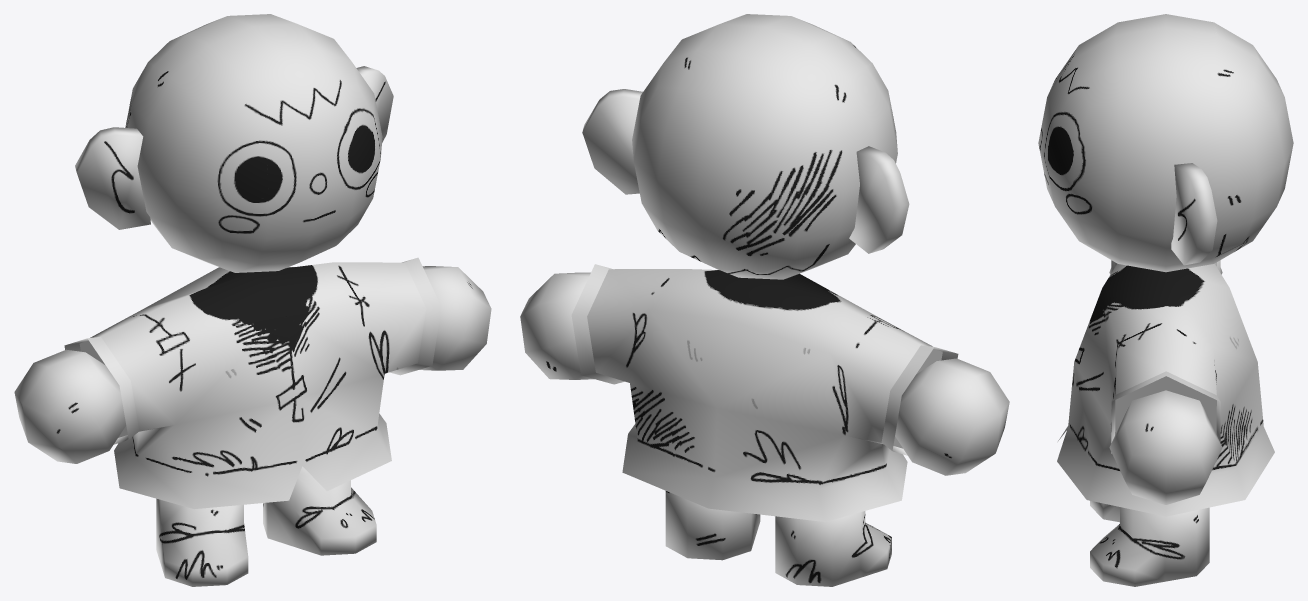
Rendered from Adam.obj.
3 views of the same model, side by side, from view 1: azimuth 30°, elevation 25°; view 2: azimuth 150°, elevation 25°; view 3: azimuth 270°, elevation 25° (orthographic). The views are drawn at different scales.
Visible parts, largest first — view 1: Cube.001, Cube.005, Cube.002, Cylinder, Cube.006; view 2: Cube.001, Cube.005, Cube.002, Cylinder, Cube.006; view 3: Cube.005, Cube.001, Cube.002, Cylinder, Cube.006.
Boxes of the visible parts, <box> form: Cube.001: <box>64,257,441,509</box>; Cube.005: <box>125,14,382,272</box>; Cube.002: <box>14,266,491,463</box>; Cylinder: <box>156,466,376,586</box>; Cube.006: <box>75,66,393,229</box>; Cube.001: <box>571,264,958,521</box>; Cube.005: <box>632,14,897,279</box>; Cube.002: <box>520,272,1009,475</box>; Cylinder: <box>665,491,891,586</box>; Cube.006: <box>582,89,909,253</box>; Cube.005: <box>1038,14,1293,272</box>; Cube.001: <box>1057,260,1274,516</box>; Cube.002: <box>1109,268,1222,504</box>; Cylinder: <box>1090,501,1209,586</box>; Cube.006: <box>1171,163,1217,265</box>.
Size of the model in its own units: 0.7798 by 0.8326 by 0.3781.
